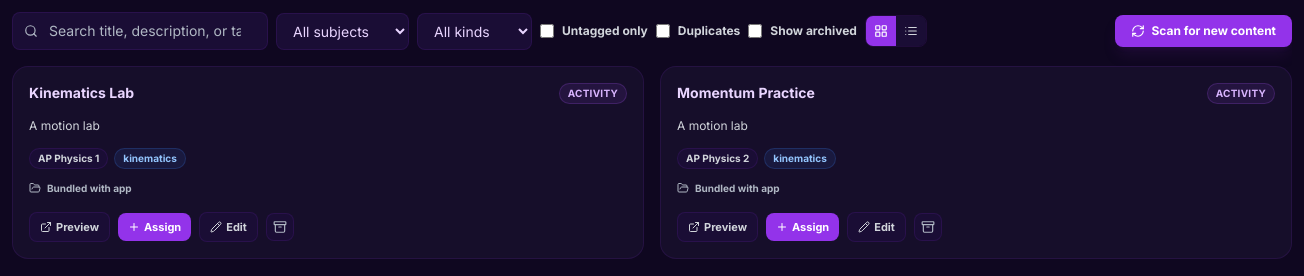
Test: LibraryTab › prunes stale selections when the subject filter changes, dropping the bulk count
The image size is (1304, 276).
Click the button named "List view": coordinates (911, 31) [896, 16, 926, 46]
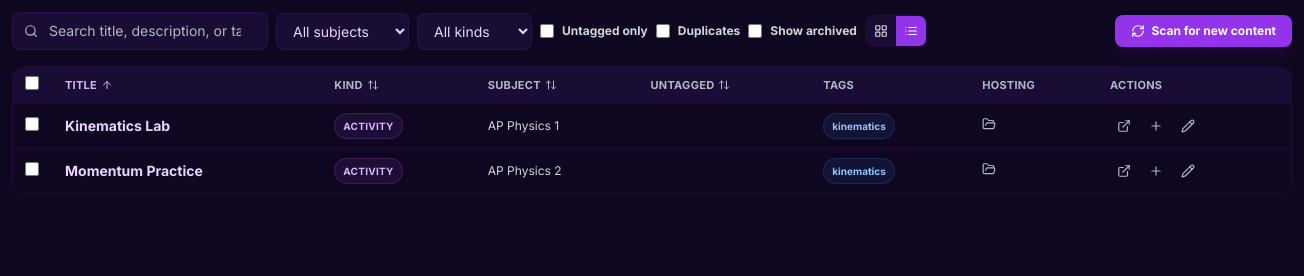
Click the checkbox named "Select all visible items": coordinates (32, 83) [25, 76, 39, 90]
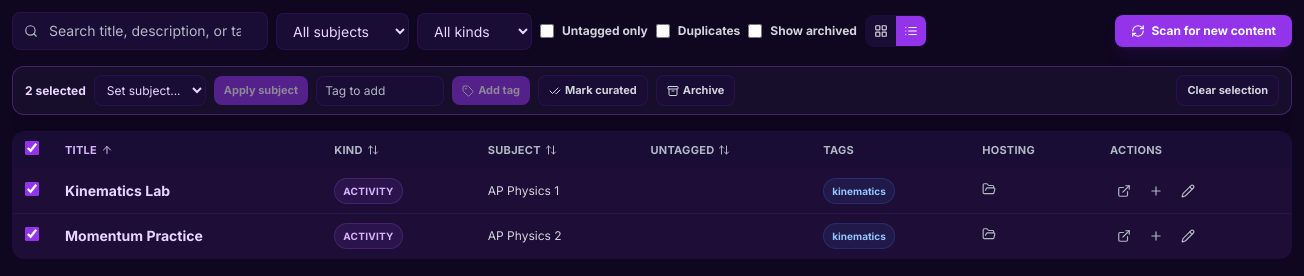
Expected: the text "2 selected" is shown, [25, 82, 86, 98]
Select "AP Physics 2" in the 1st dropdown named "filter by subject": coordinates (342, 31) [276, 12, 409, 50]
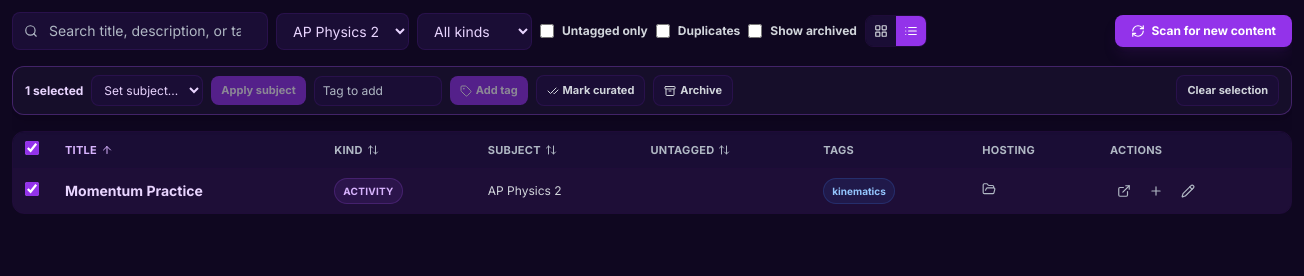
Expected: the text "1 selected" is shown, [25, 82, 83, 98]
Expected: the text "2 selected" is gone
